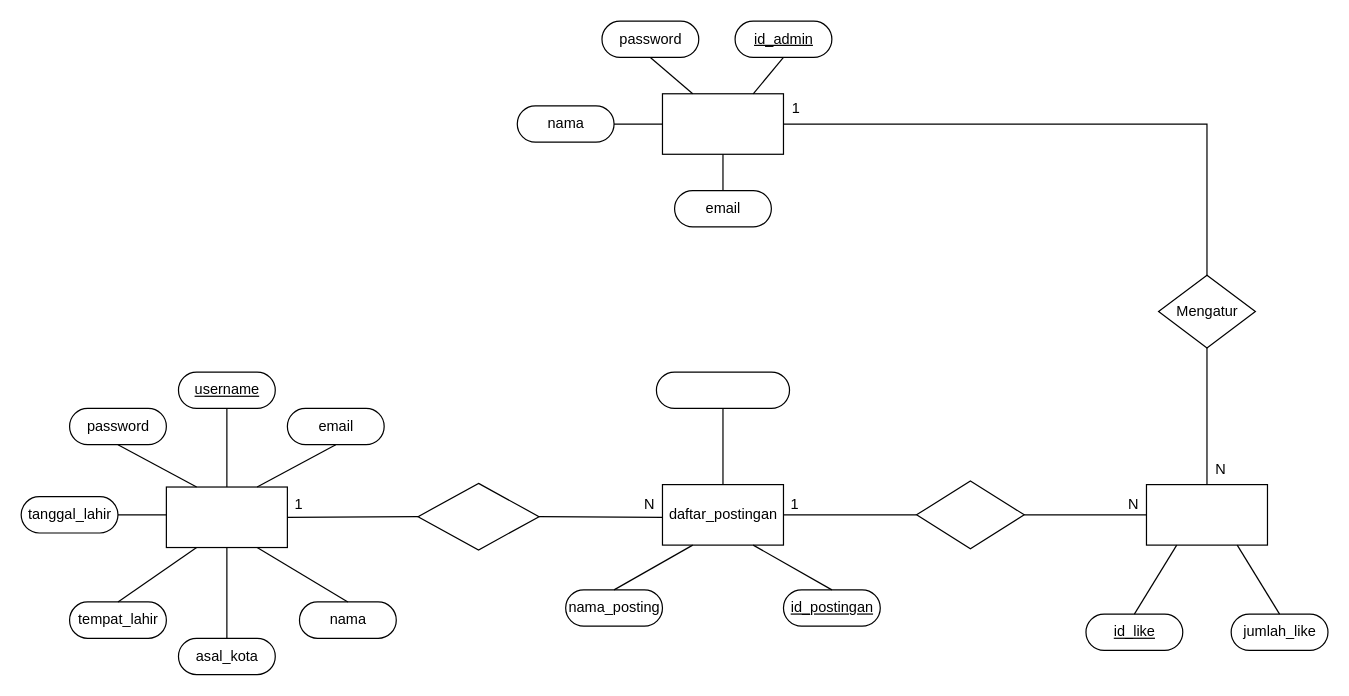
Image size: 1349x696. Some labels were removed from this diagram. Here are the shapes that lost their labels. From the top down, the box of each, then its label:
(661, 93, 783, 154): admin
(655, 371, 790, 408): tanggal_posting
(165, 486, 287, 548): pengguna
(417, 482, 539, 550): Memposting
(915, 480, 1024, 549): Menampung
(1145, 483, 1267, 545): suka
